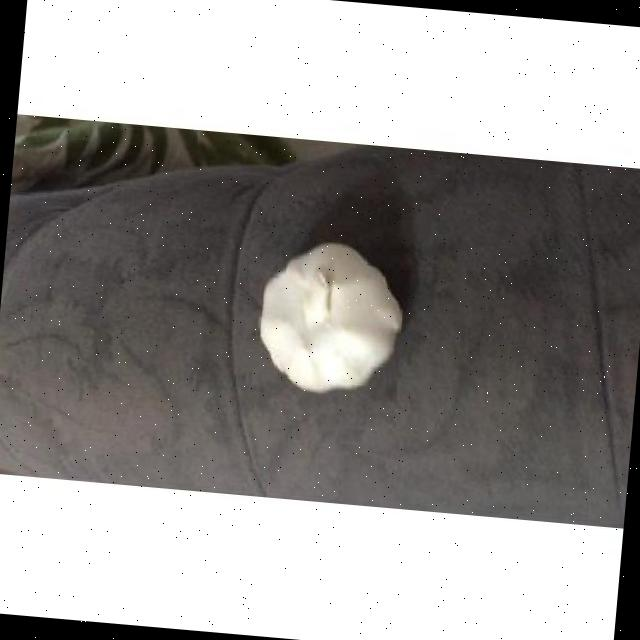garlic: (259, 242, 402, 391)
